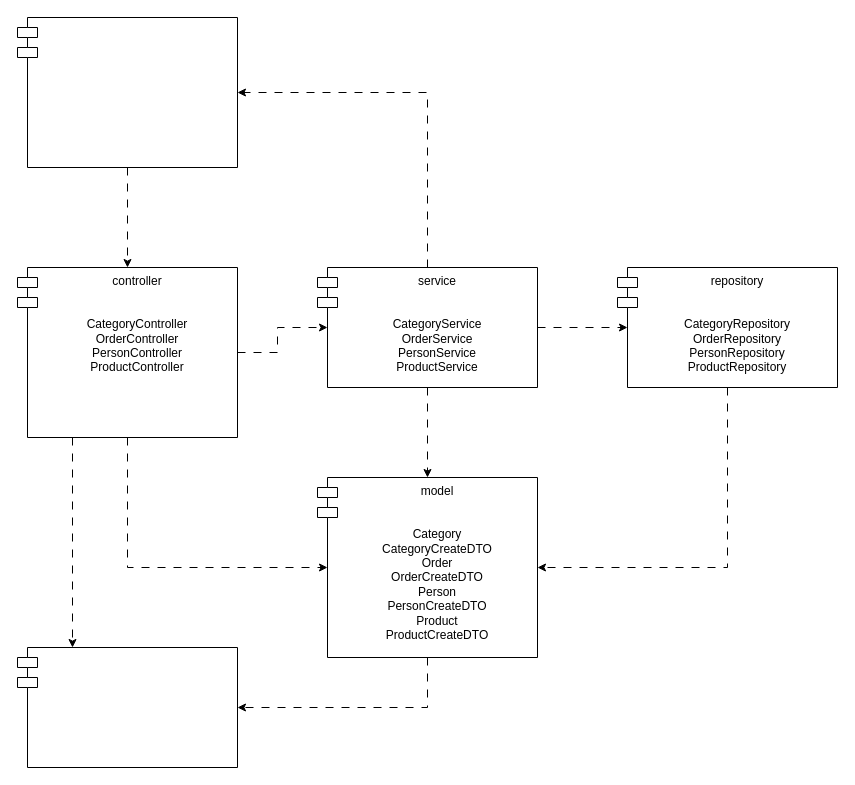
This 855x785 diagram has some shape labels left out. The shapes that lost their labels are listed below. From the top down, each one's centre as x and y in pixels, then its label:
At pixel 127 92: "config ErrorResponse GlobalExceptionHandler ValidationException".
At pixel 127 707: "validator StrongPassword StrongPasswordValidator".
